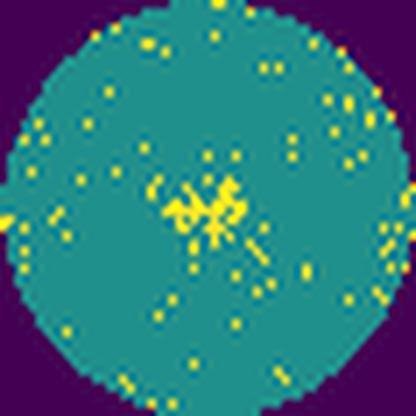Center: (160, 176, 252, 239)
